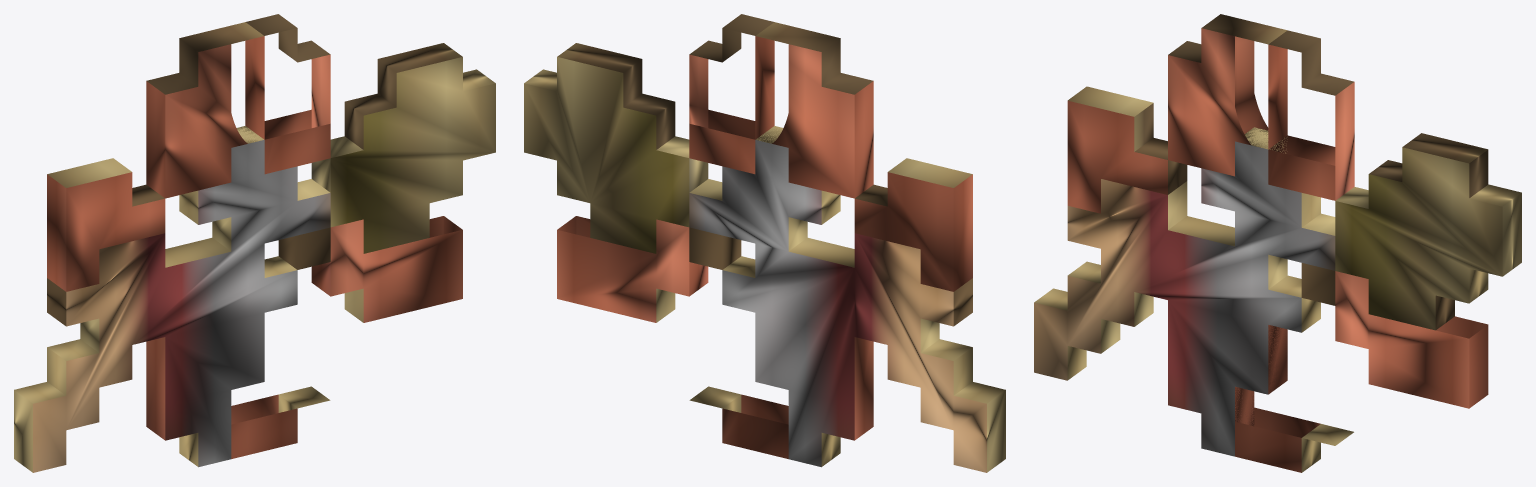
File: 甜浆果.obj
3 views of the same model, side by side, from view 1: azimuth 30°, elevation 25°; view 2: azimuth 150°, elevation 25°; view 3: azimuth 330°, elevation 25° (orthographic).
Visible parts, largest first — view 1: mesh_mask_3, mesh_mask_2, mesh_mask_1, mesh_mask_4; view 2: mesh_mask_3, mesh_mask_2, mesh_mask_1, mesh_mask_4; view 3: mesh_mask_3, mesh_mask_2, mesh_mask_1, mesh_mask_4.
Part boxes in pixels (bbox=[...]): mesh_mask_3: bbox=[14, 126, 330, 472]; mesh_mask_2: bbox=[246, 14, 495, 253]; mesh_mask_1: bbox=[47, 22, 264, 291]; mesh_mask_4: bbox=[231, 216, 462, 458]; mesh_mask_3: bbox=[689, 126, 1005, 472]; mesh_mask_2: bbox=[524, 14, 773, 253]; mesh_mask_1: bbox=[755, 22, 972, 291]; mesh_mask_4: bbox=[557, 216, 788, 458]; mesh_mask_3: bbox=[1034, 127, 1335, 456]; mesh_mask_2: bbox=[1268, 30, 1521, 330]; mesh_mask_1: bbox=[1067, 14, 1287, 213]; mesh_mask_4: bbox=[1235, 271, 1488, 472].
Size of the model in its own units: 14 by 12 by 1.
Materials: 1 (1 with a texture image).
